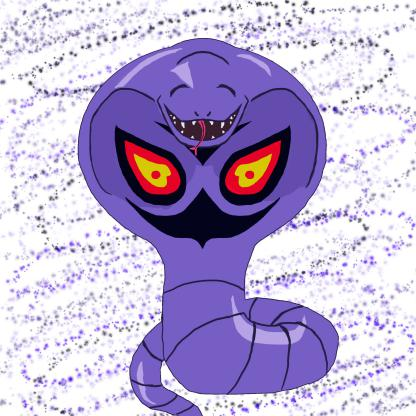Arbok: (83, 35, 342, 416)
